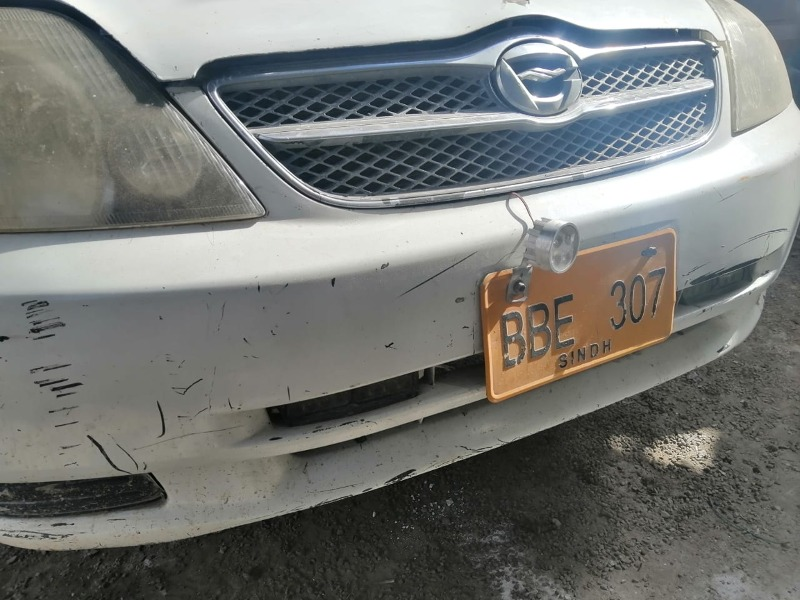License Plate: (482, 229, 675, 404)
